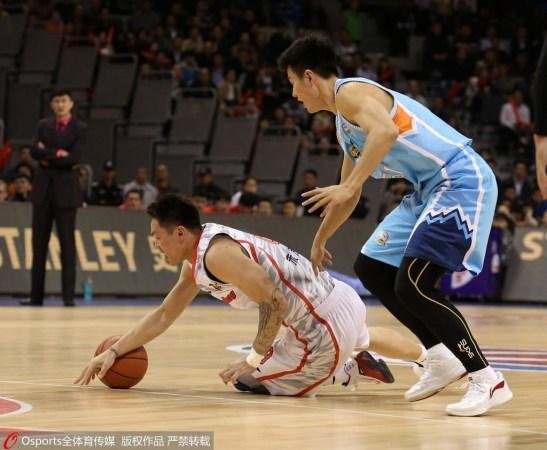bending: (280, 37, 547, 423), (72, 180, 440, 429)
up: (23, 79, 88, 308)
